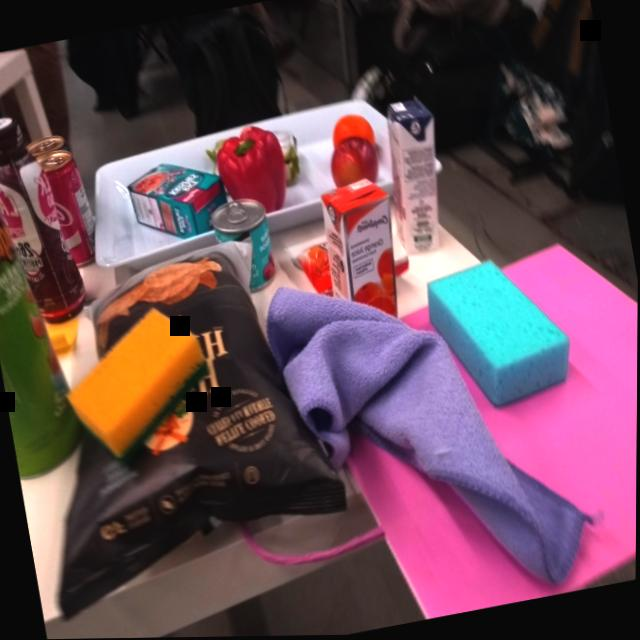cereal: (122, 150, 235, 252)
chocolate_drink: (0, 106, 93, 338)
grape_juice: (368, 85, 458, 261)
paprika: (208, 122, 294, 232)
scrubby: (49, 292, 228, 480)
sponge_opl: (413, 242, 581, 424)
